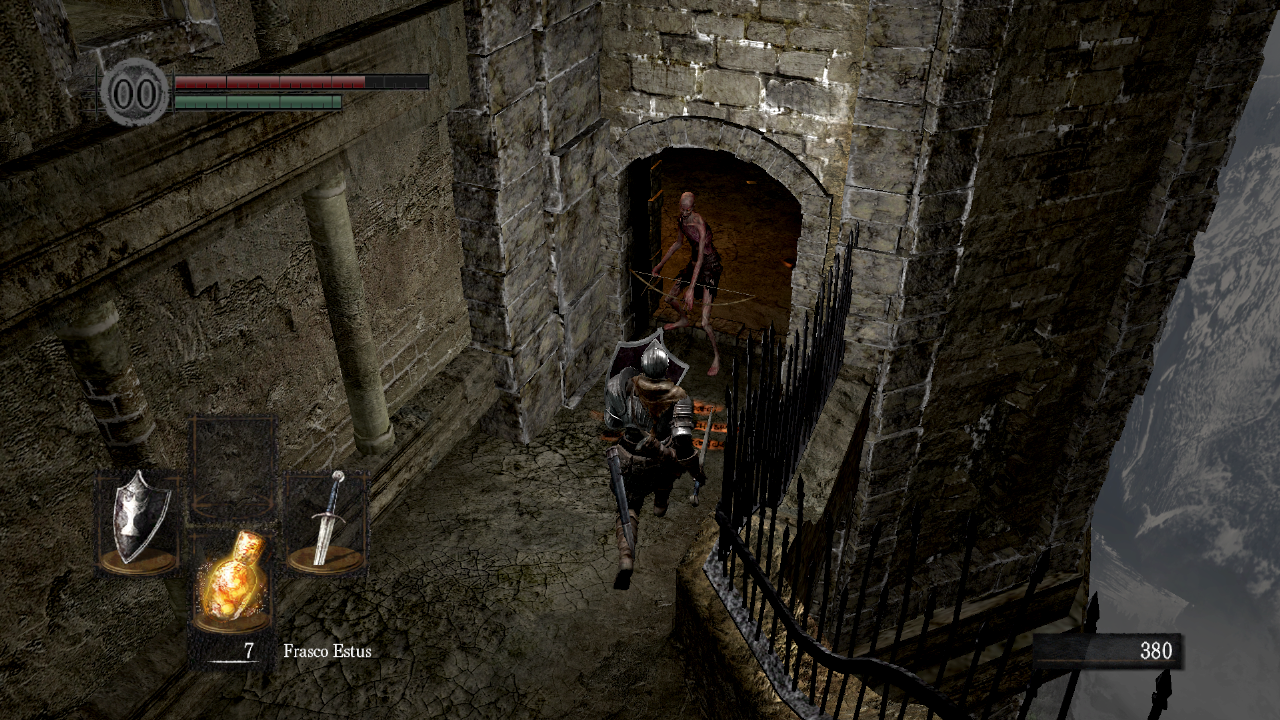hollow: (627, 191, 757, 376)
player: (601, 324, 714, 590)
